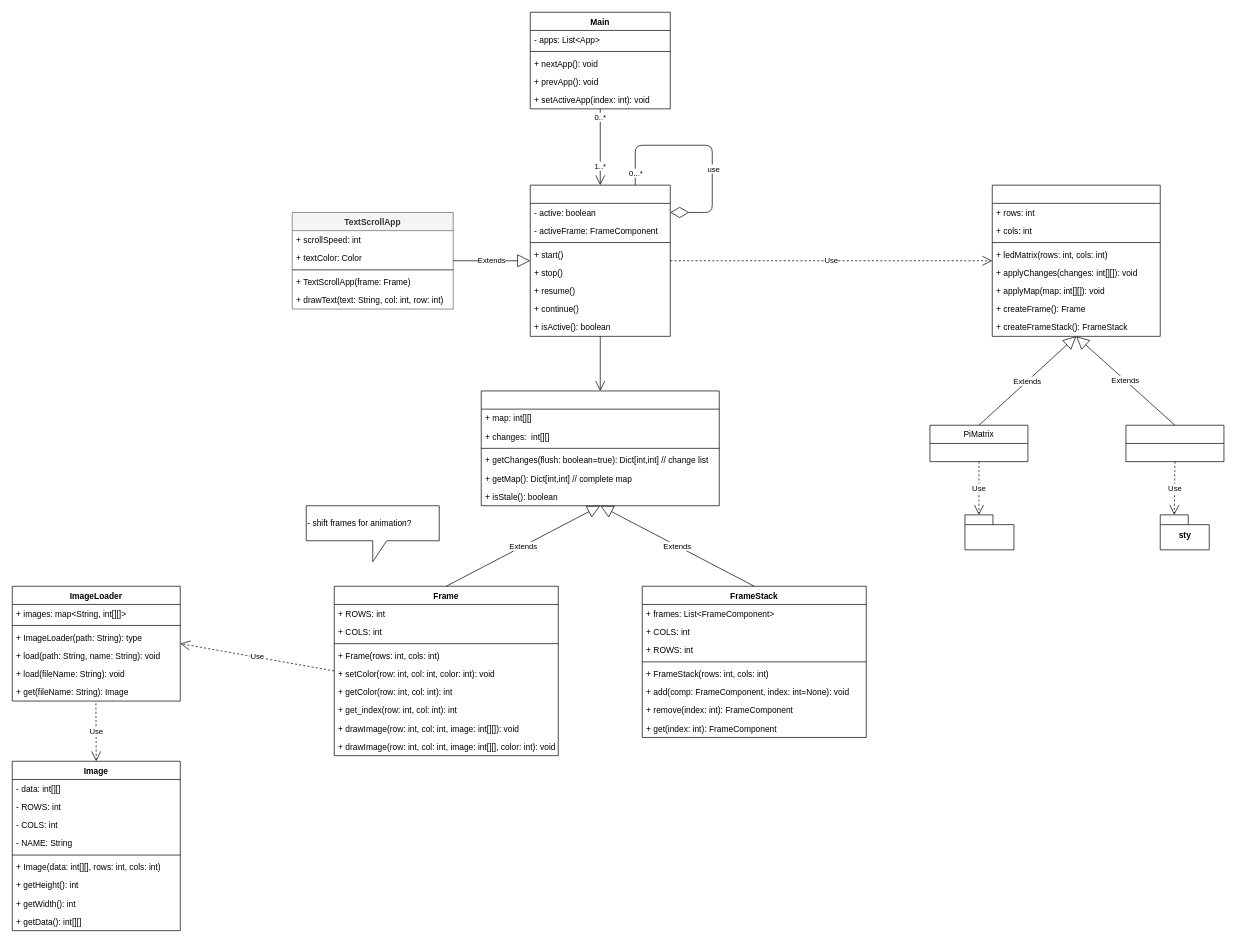
Image size: 1236x945. Some labels were removed from this diagram. Each missing label, with the box of its shape:
AbstractMatrix: (992, 184, 1160, 336)
App: (530, 184, 670, 336)
FrameComponent: (481, 390, 719, 506)
rpi_ws281x: (964, 514, 1014, 550)
VirtualMatrix: (1125, 425, 1224, 462)
